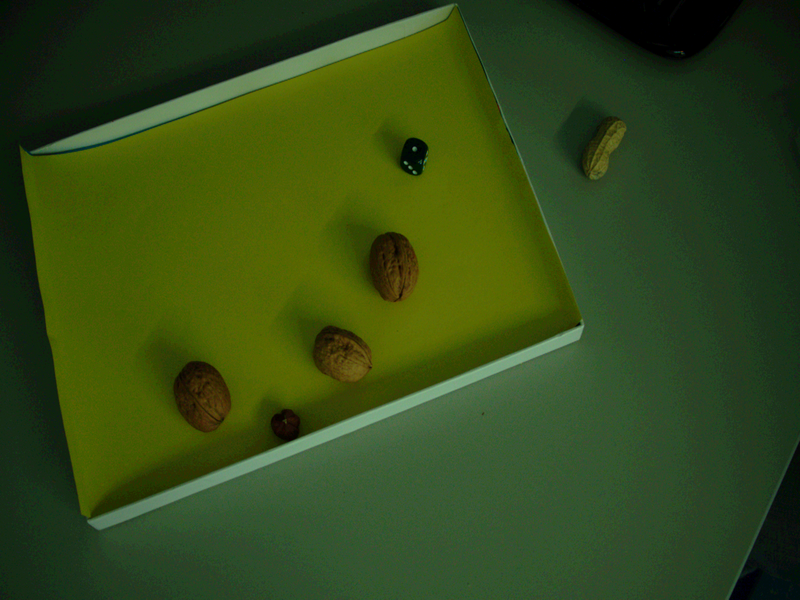walnut: (164, 356, 241, 437), (363, 228, 427, 312), (306, 322, 380, 388)
